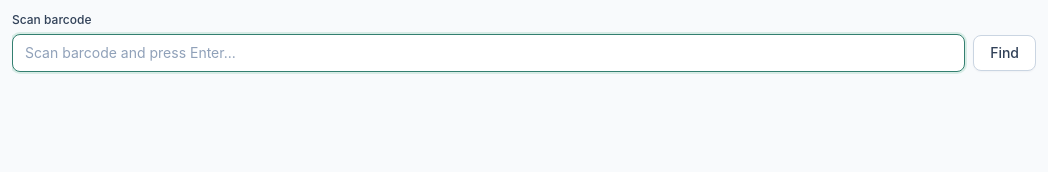
Test: ScanInput › shows inline not-found message and keeps focus when scan fails
Type "999999" into the field labelled "Scan barcode".
click(489, 53); type("999999")  # box top-left (12, 34), bottom-right (965, 72)
Then press Enter
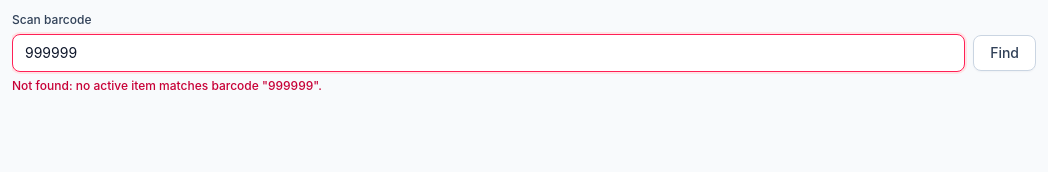
Result: the message reads "Not found: no active item matches barcode \"999999\"." at top-left (12, 78), bottom-right (322, 93)
